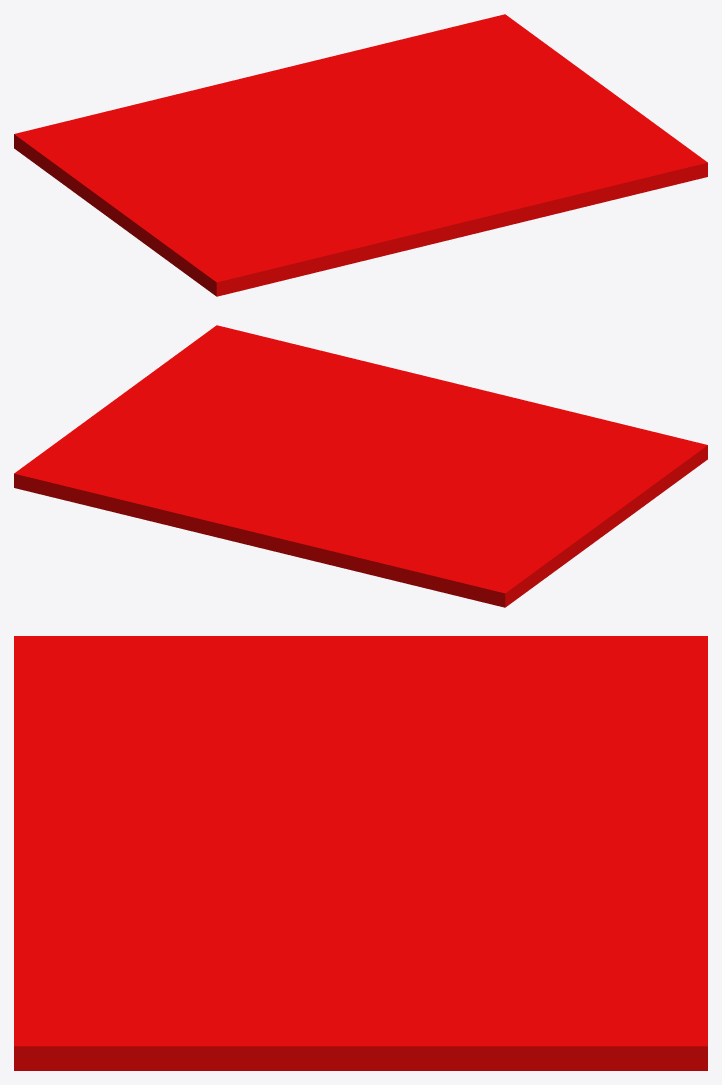
File: ChoppingBoard.FBX
3 views of the same model, one above another, from view 1: azimuth 30°, elevation 25°; view 2: azimuth 150°, elevation 25°; view 3: azimuth 270°, elevation 25° (orthographic). The views are drawn at different scales.
Parts seen in each view (by area): view 1: Box002; view 2: Box002; view 3: Box002.
Part boxes in pixels (x1,y1,x2,y2): Box002: [14, 14, 707, 296]; Box002: [14, 325, 707, 607]; Box002: [14, 636, 707, 1070].
Bounding box in the file's own units: 52.29 × 1.46 × 37.38.
